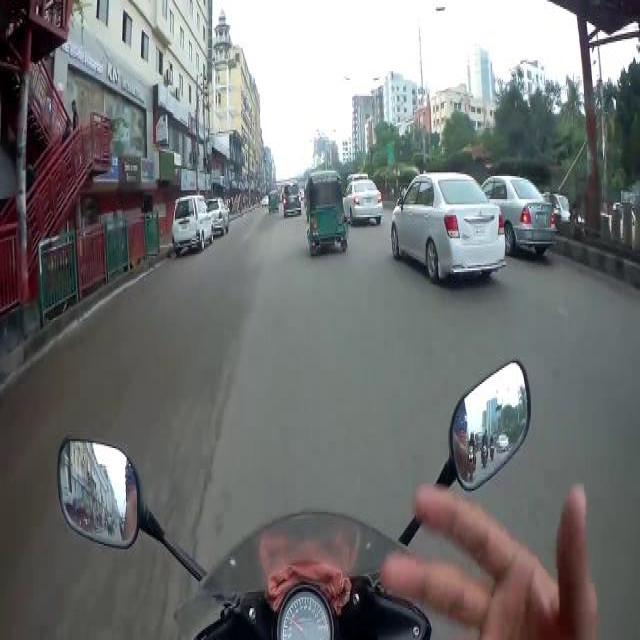car: (388, 167, 508, 286), (480, 170, 560, 266), (342, 177, 382, 232)
minivan: (169, 193, 215, 251), (282, 178, 302, 220)
three wheelers -CNG-: (302, 167, 350, 260)
